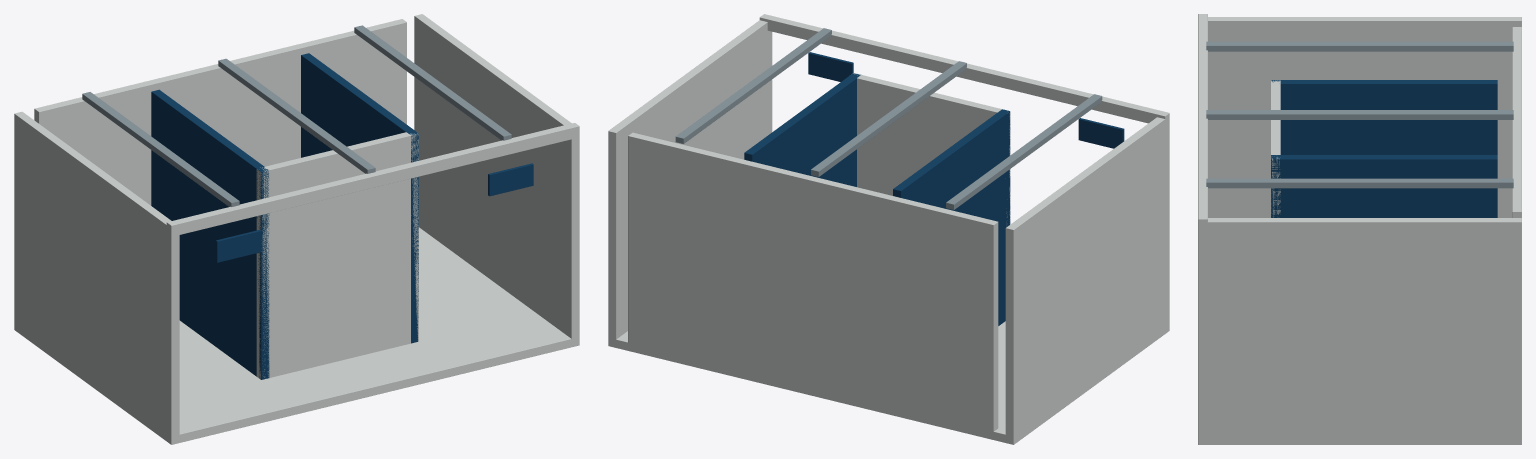
Rendered from edited.glb.
3 views of the same model, side by side, from view 1: azimuth 30°, elevation 25°; view 2: azimuth 150°, elevation 25°; view 3: azimuth 270°, elevation 25° (orthographic). The views are drawn at different scales.
Parts seen in each view (by area): view 1: SIDE_Wall, SIDE_Wall.001, PRIVACY_CentralScreen, FLOOR, BACK_Wall, PRIVACY_Baffle, PRIVACY_Baffle.001, FRONT_Header, CEILING_ServiceRail, CEILING_ServiceRail.002, CEILING_ServiceRail.001, WAYFINDING_BlankPlate.001 (+1 smaller); view 2: BACK_Wall, SIDE_Wall, SIDE_Wall.001, PRIVACY_CentralScreen, PRIVACY_Baffle, PRIVACY_Baffle.001, FRONT_Header, FLOOR, CEILING_ServiceRail.001, CEILING_ServiceRail, CEILING_ServiceRail.002, WAYFINDING_BlankPlate (+1 smaller); view 3: SIDE_Wall.001, SIDE_Wall, PRIVACY_Baffle, PRIVACY_Baffle.001, CEILING_ServiceRail.001, CEILING_ServiceRail, CEILING_ServiceRail.002, FLOOR, FRONT_Header, BACK_Wall, PRIVACY_CentralScreen.
Boxes of the visible parts, x1,y1,x2,y2 form: SIDE_Wall: (14, 111, 179, 439); SIDE_Wall.001: (414, 14, 579, 342); PRIVACY_CentralScreen: (256, 132, 418, 379); FLOOR: (14, 227, 579, 444); BACK_Wall: (34, 19, 406, 205); PRIVACY_Baffle: (151, 89, 269, 379); PRIVACY_Baffle.001: (301, 53, 418, 343); FRONT_Header: (166, 123, 579, 236); CEILING_ServiceRail: (354, 25, 511, 140); CEILING_ServiceRail.002: (218, 58, 375, 173); CEILING_ServiceRail.001: (82, 92, 239, 206); WAYFINDING_BlankPlate.001: (488, 163, 533, 196); BACK_Wall: (628, 132, 998, 435); SIDE_Wall: (1005, 116, 1169, 440); SIDE_Wall.001: (608, 20, 772, 339); PRIVACY_CentralScreen: (853, 73, 1010, 218); PRIVACY_Baffle: (893, 109, 1010, 325); PRIVACY_Baffle.001: (744, 73, 860, 186); FRONT_Header: (759, 14, 1169, 123); FLOOR: (608, 321, 1169, 444); CEILING_ServiceRail.001: (946, 94, 1102, 209); CEILING_ServiceRail: (675, 28, 831, 143); CEILING_ServiceRail.002: (811, 61, 966, 176); WAYFINDING_BlankPlate: (1078, 118, 1124, 148); SIDE_Wall.001: (1198, 218, 1521, 440); SIDE_Wall: (1208, 17, 1521, 217); PRIVACY_Baffle: (1271, 80, 1497, 154); PRIVACY_Baffle.001: (1271, 155, 1497, 217); CEILING_ServiceRail.001: (1206, 41, 1513, 51); CEILING_ServiceRail: (1206, 178, 1513, 188); CEILING_ServiceRail.002: (1206, 110, 1513, 119); FLOOR: (1198, 436, 1521, 444); FRONT_Header: (1198, 14, 1207, 230); BACK_Wall: (1512, 27, 1521, 217); PRIVACY_CentralScreen: (1271, 80, 1280, 217).
Bounding box in the file's own units: 6 × 3.14 × 4.
